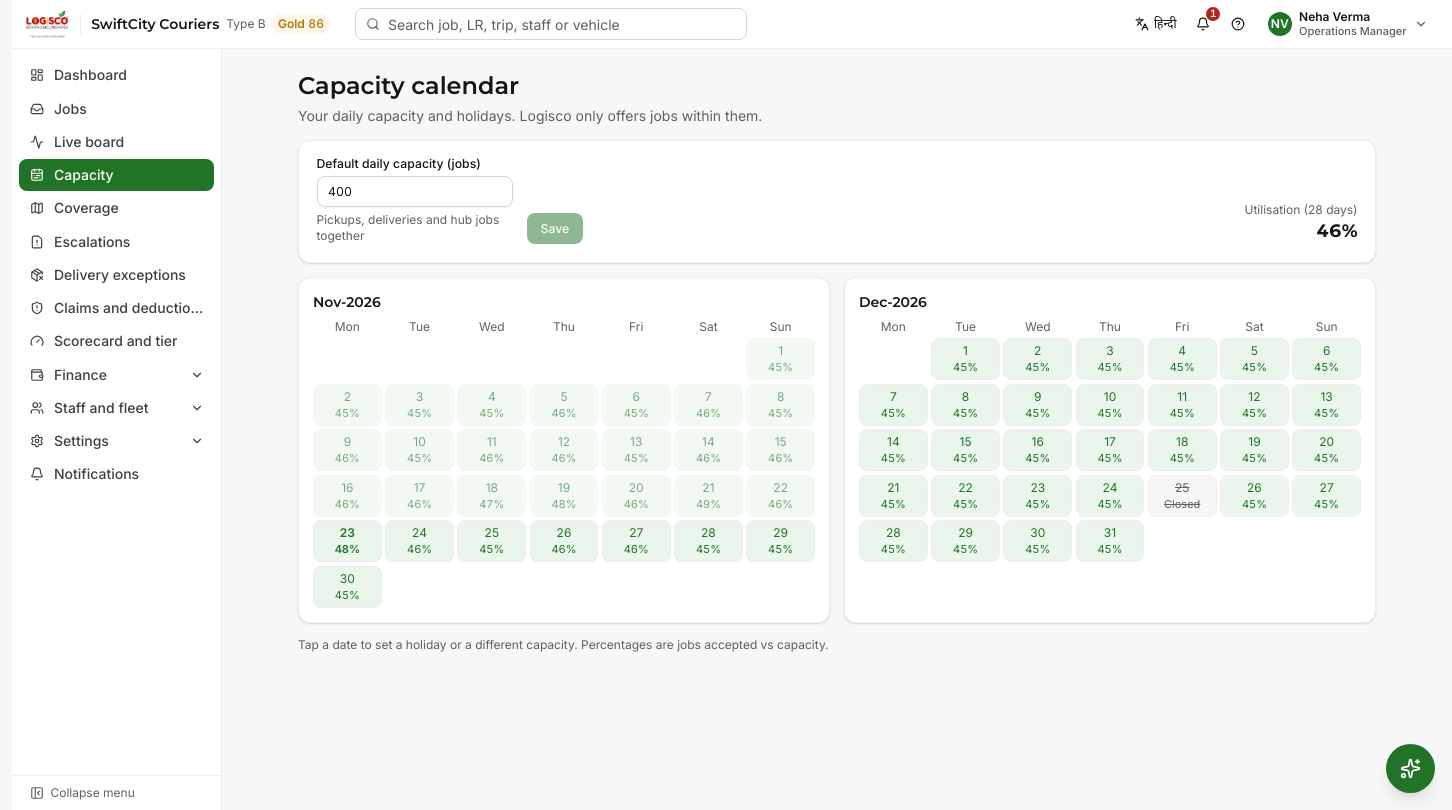
Test: Network: ERP-18 to ERP-21, PP-18, PP-19 › PP-18: SwiftCity marks a day closed and the engine stops offering it
This screenshot has width=1452, height=810.
What coordinates should you click on to do the following:
click the button named "30-Nov-2026"
I would click on:
 (347, 587)
Its box is [313,566,382,608].
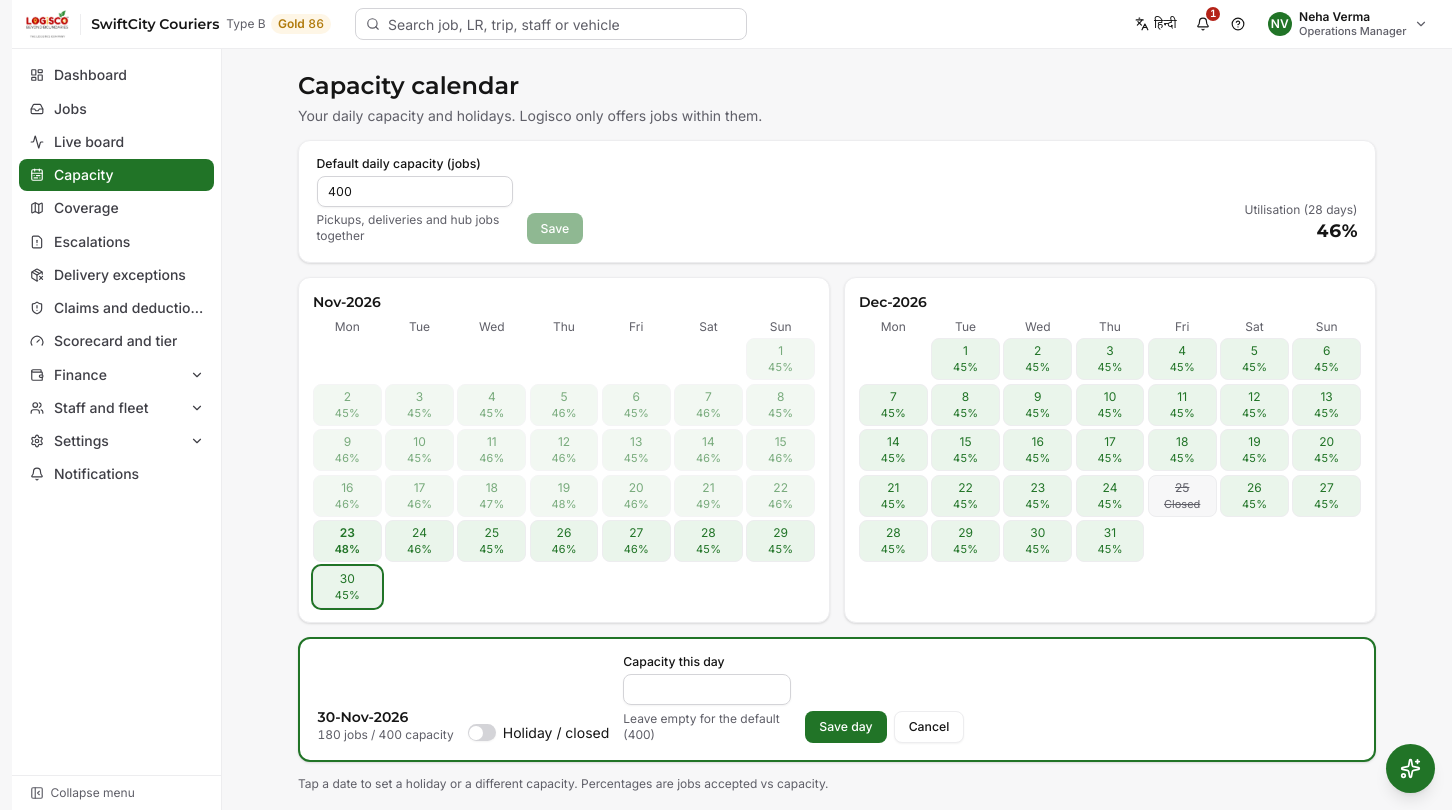
What coordinates should you click on to do the following:
click the switch named "Holiday / closed"
I would click on:
 (482, 733)
Its box is [468,724,496,741].
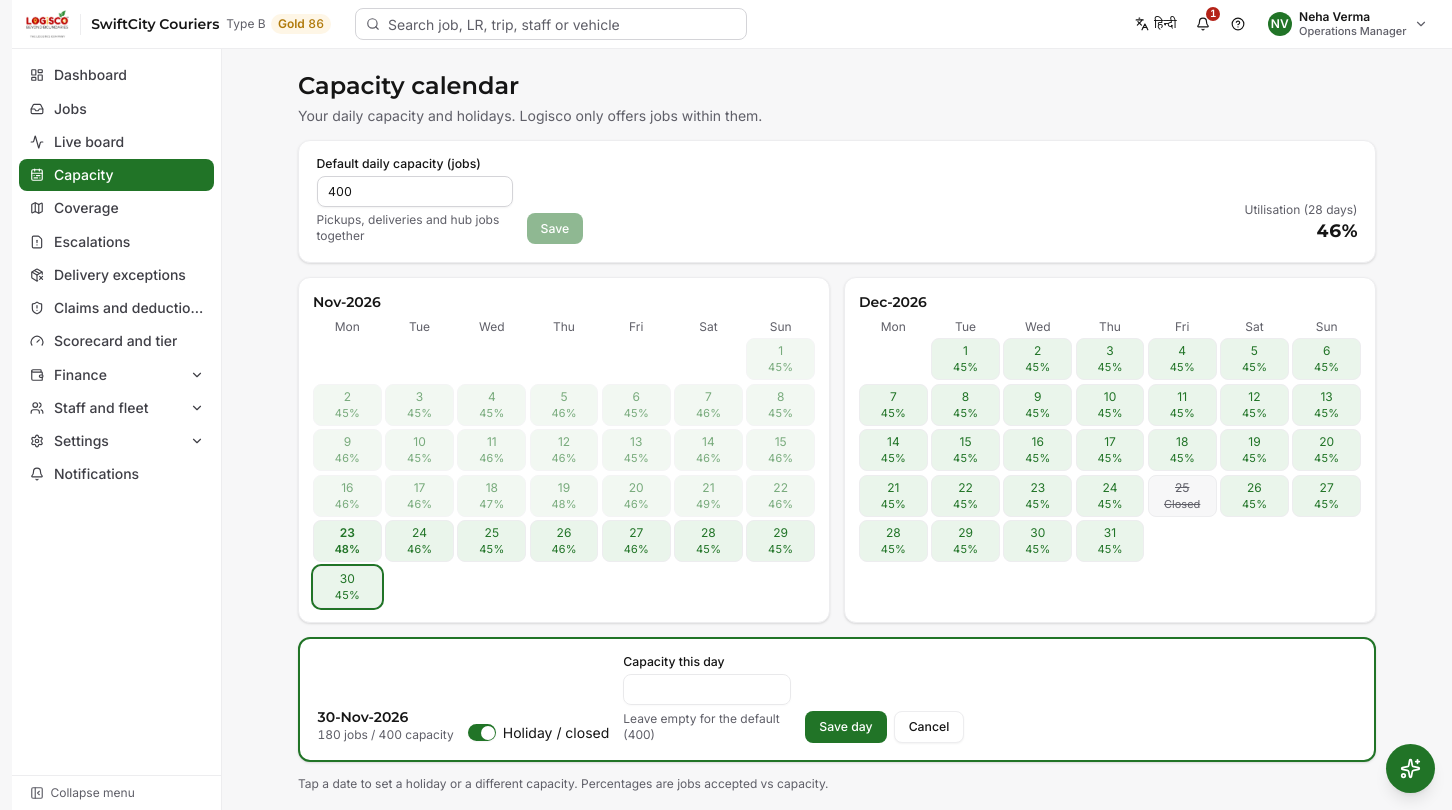
What coordinates should you click on to do the following:
click the button "Save day"
I would click on:
 (846, 727)
Its box is [805,711,887,742].
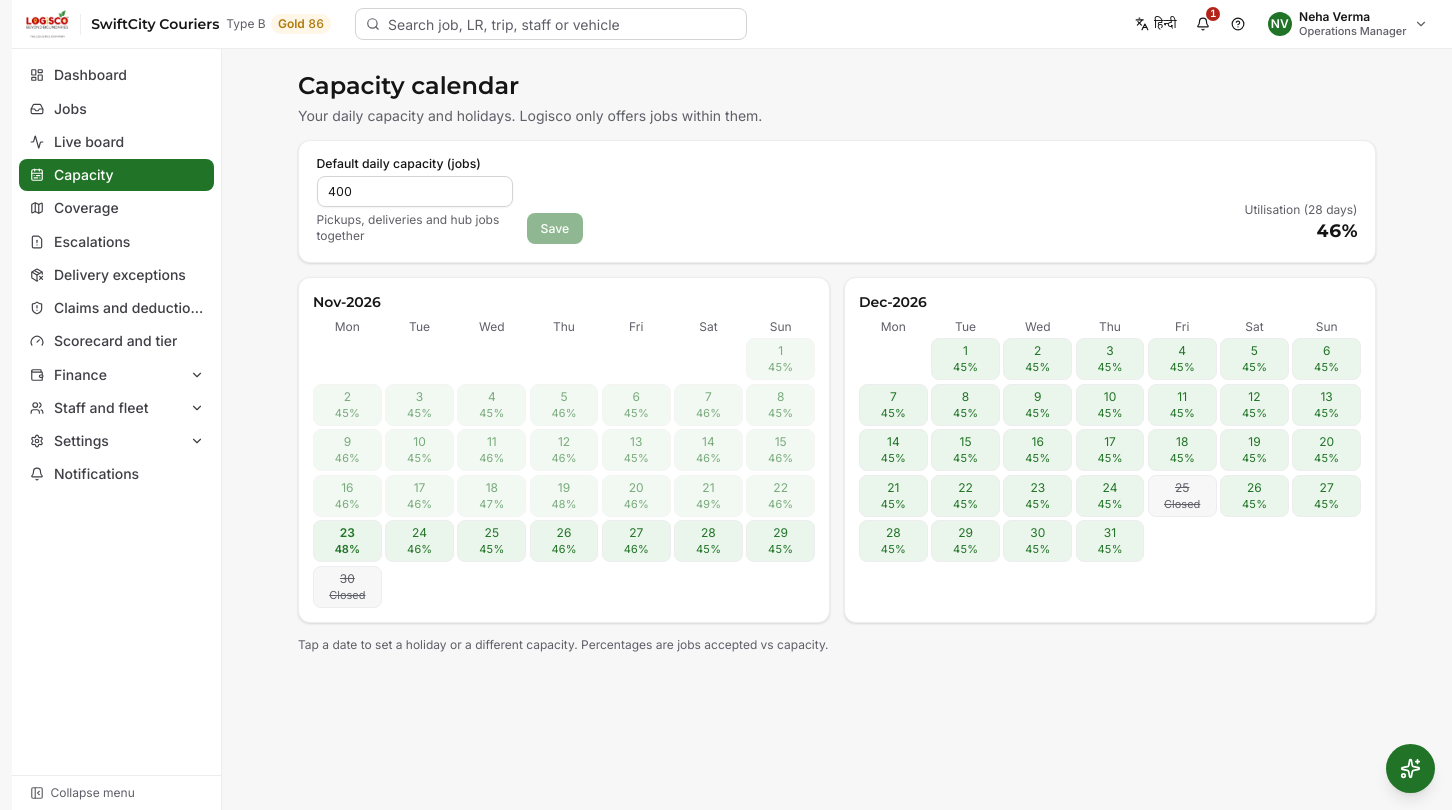
Result: the button with aria-label "30-Nov-2026" shows "Closed" at [313,566,382,608]
